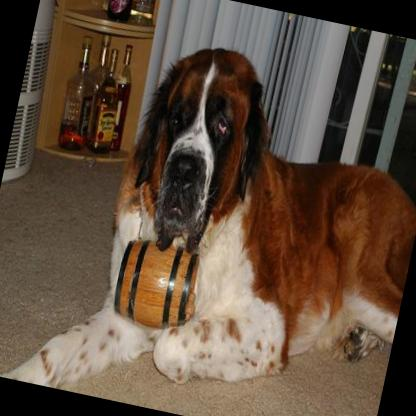Saint_Bernard: (3, 12, 416, 416)
